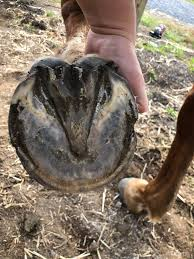horsesole: (8, 69, 138, 192)
